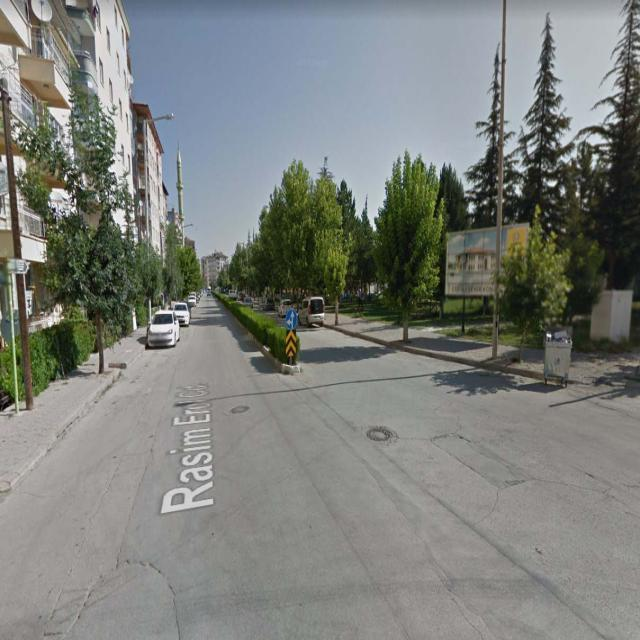ilerisol: (286, 310, 296, 329)
